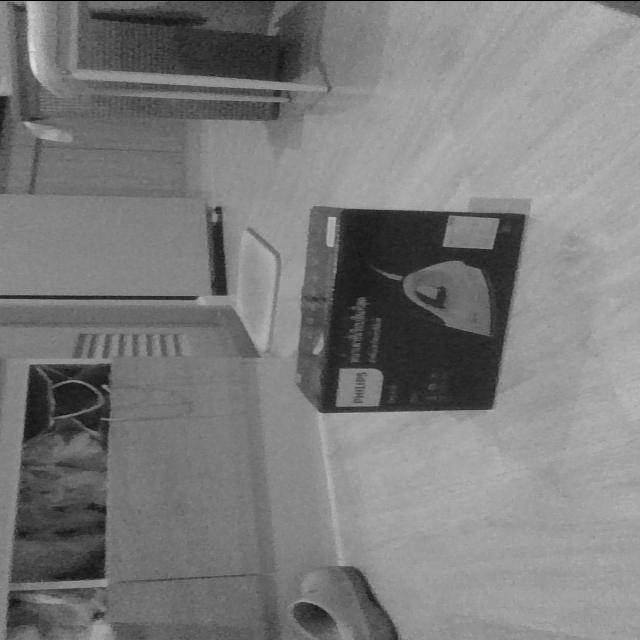IRON: (290, 203, 530, 415)
